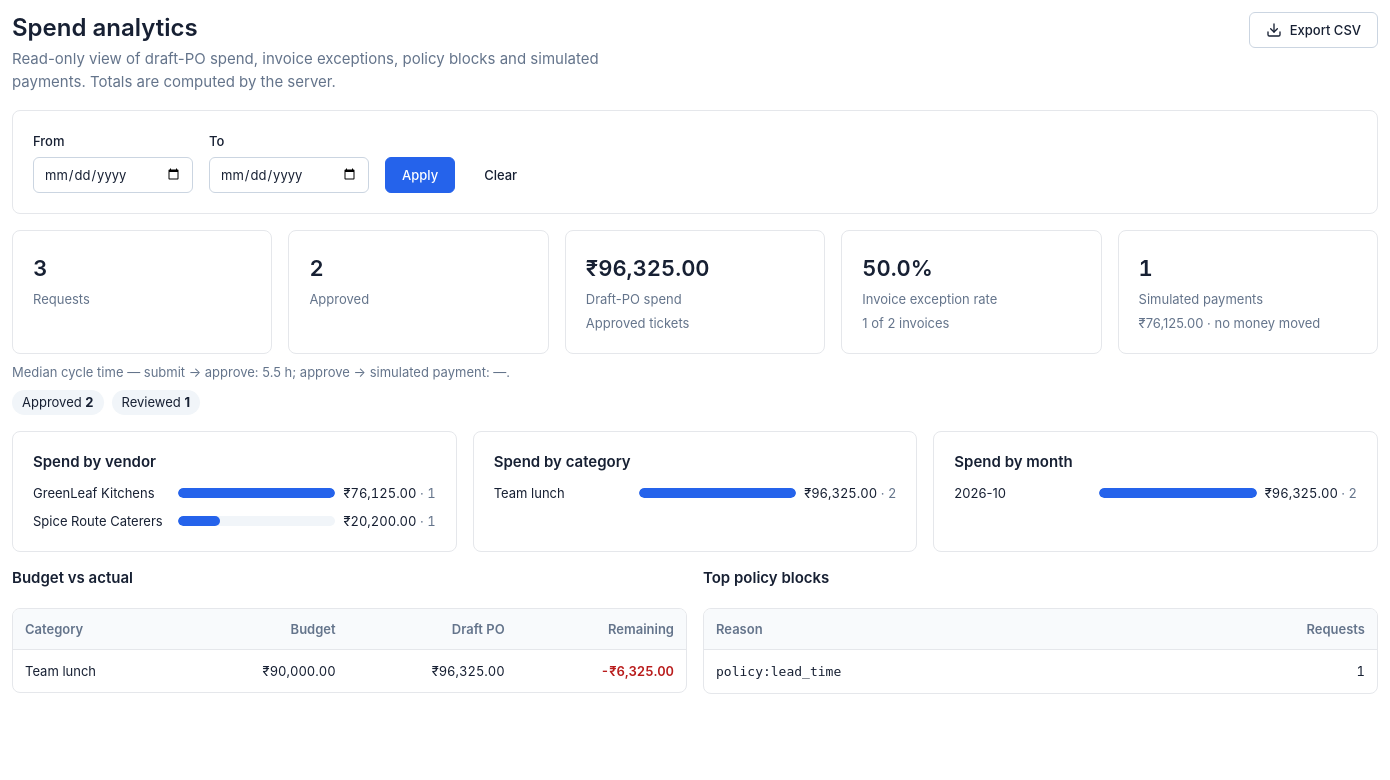
Test: AnalyticsPage › exports CSV with the bearer token and the active range
The image size is (1390, 780).
Expected: the element with test id "kpi-requests" is shown, [12,230,272,354]
What coordinates should you click on to do the following:
click the button "Export CSV"
I would click on:
 (1313, 30)
Its box is [1249,12,1378,48].
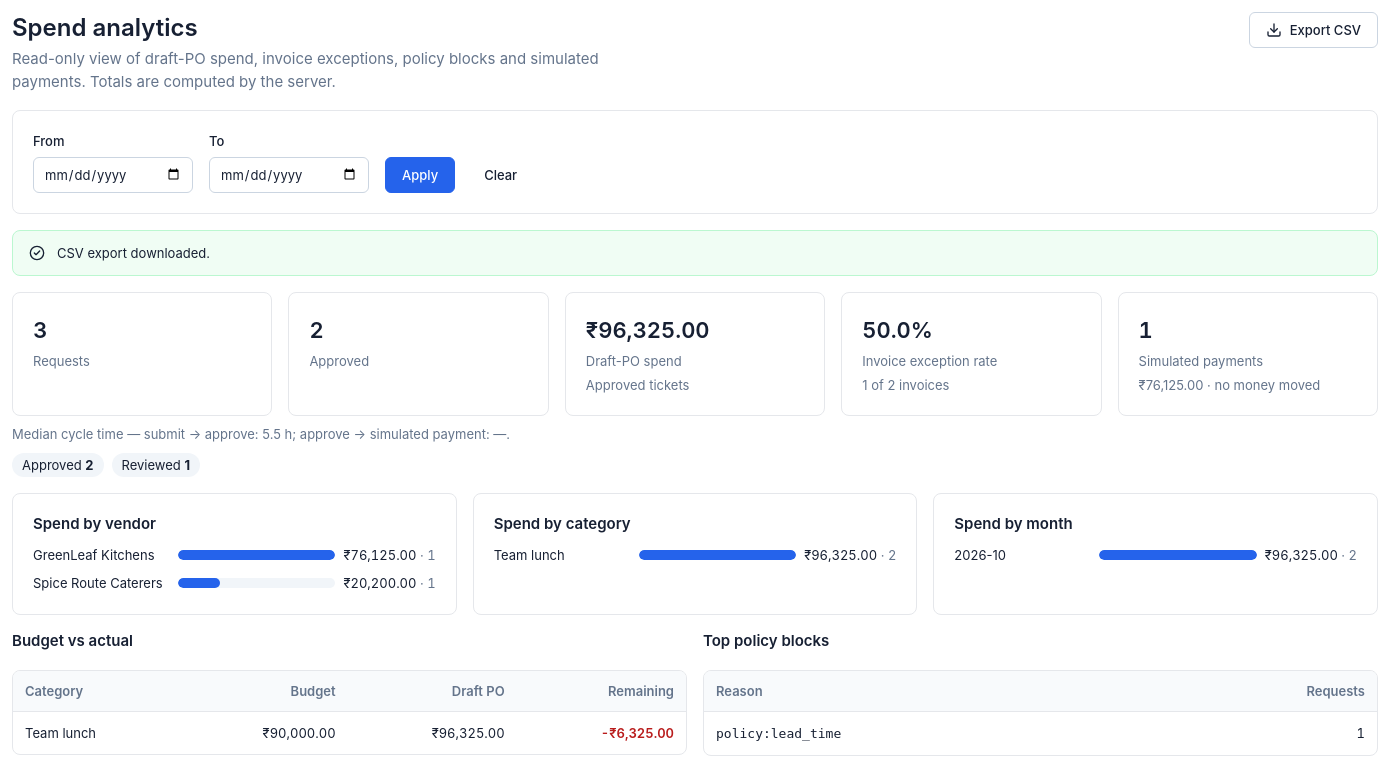
Now the text "CSV export downloaded." is shown, box [57,243,210,263]
